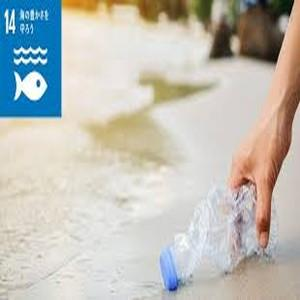Plastic: (160, 185, 259, 292)
